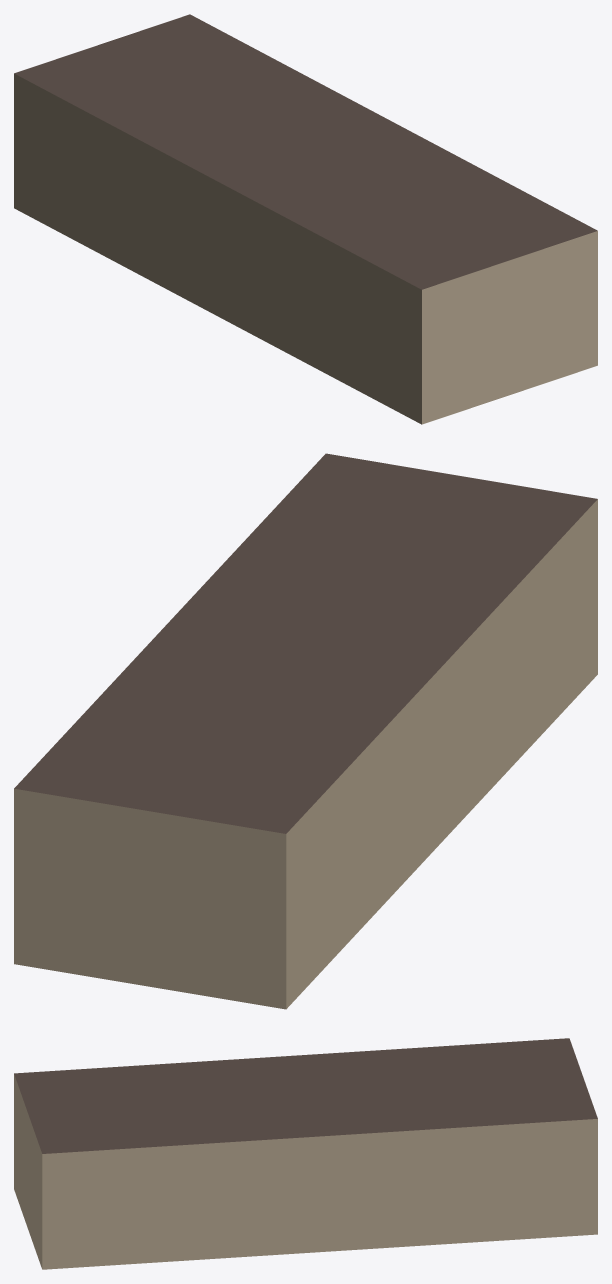
3 renders of one model, top to bottom at view 1: azimuth 30°, elevation 25°; view 2: azimuth 150°, elevation 25°; view 3: azimuth 270°, elevation 25°, orthographic. The views are drawn at different scales.
Visible parts, largest first — view 1: HP-w859447904; view 2: HP-w859447904; view 3: HP-w859447904.
Boxes of the visible parts, x1=… form: HP-w859447904: x1=14, y1=14, x2=597, y2=424; HP-w859447904: x1=14, y1=453, x2=597, y2=1009; HP-w859447904: x1=14, y1=1038, x2=597, y2=1269.
Bounding box in the file's own units: 19.33 × 9 × 41.17.
